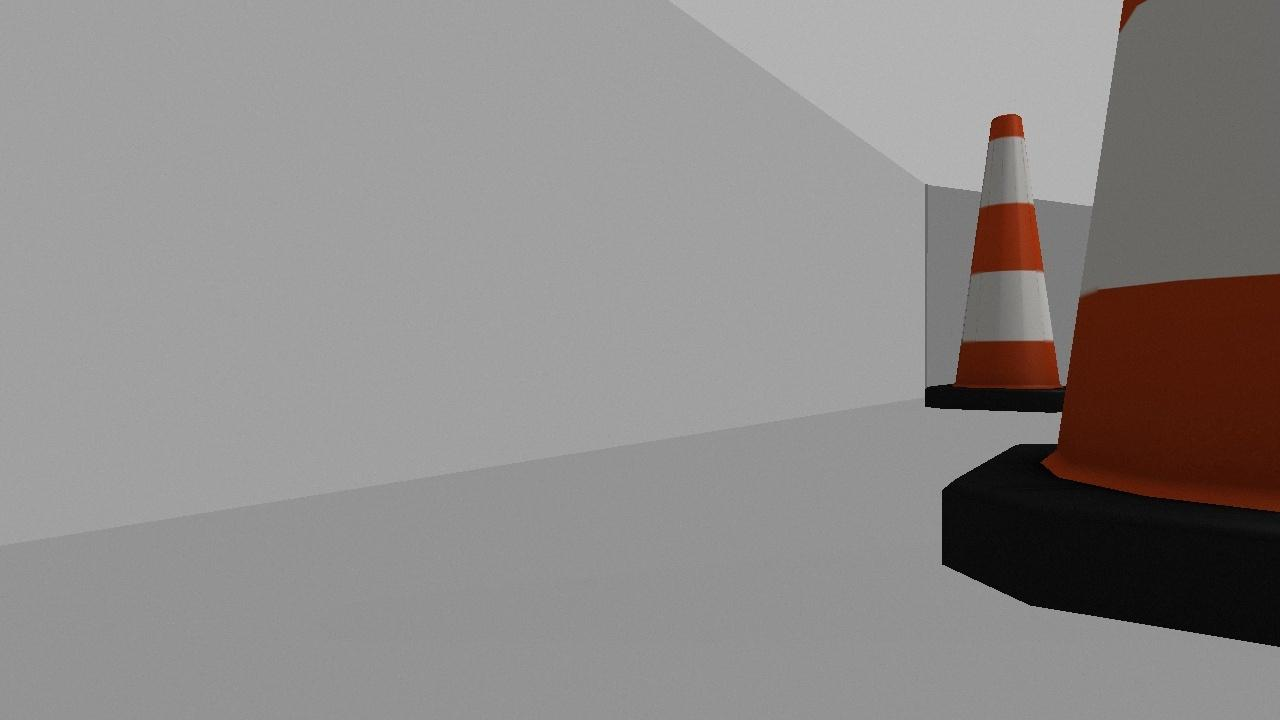cone_barrel: (921, 110, 1089, 413)
